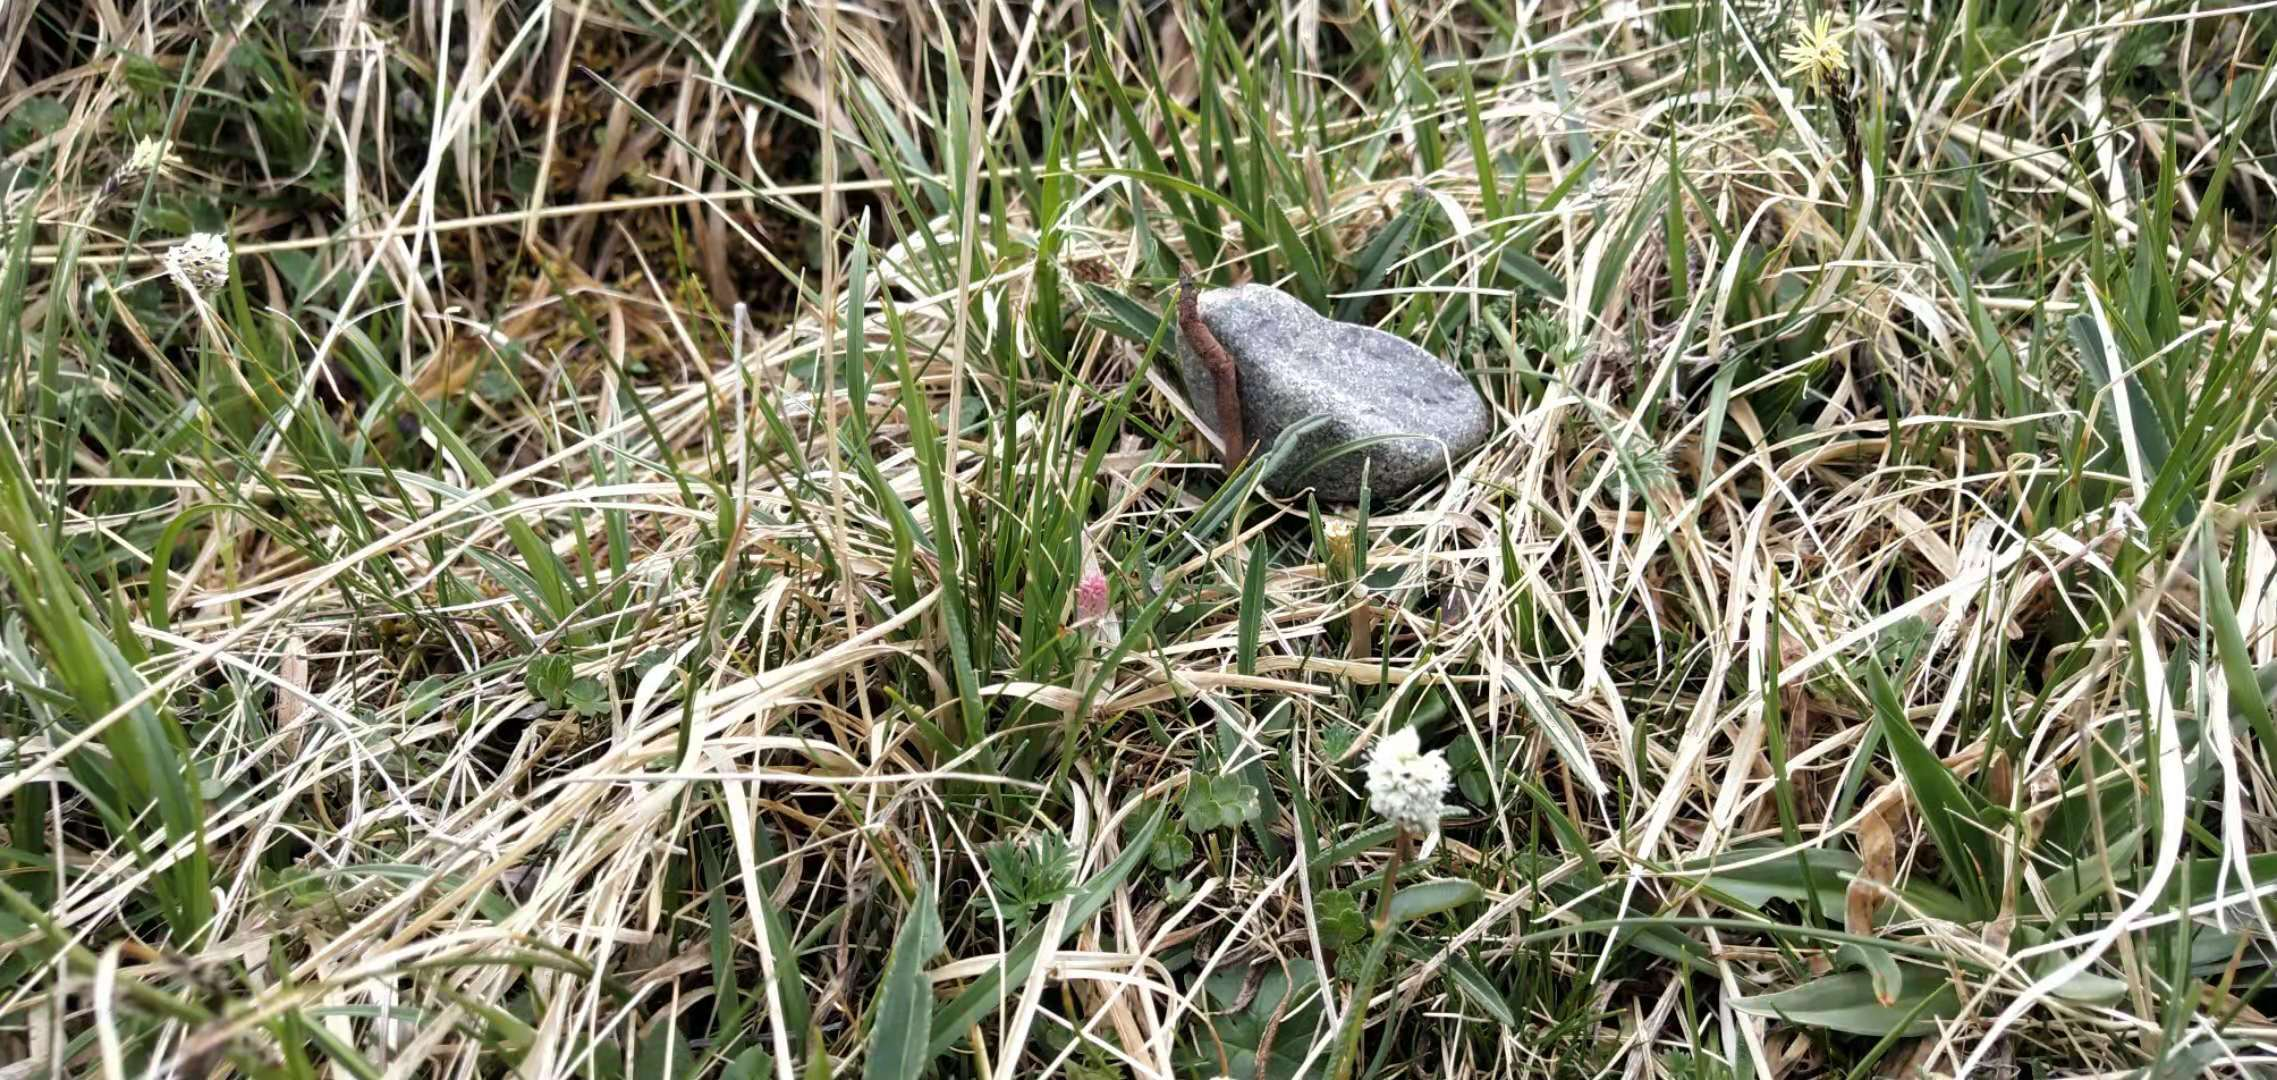Chongcao: (1179, 257, 1245, 473)
